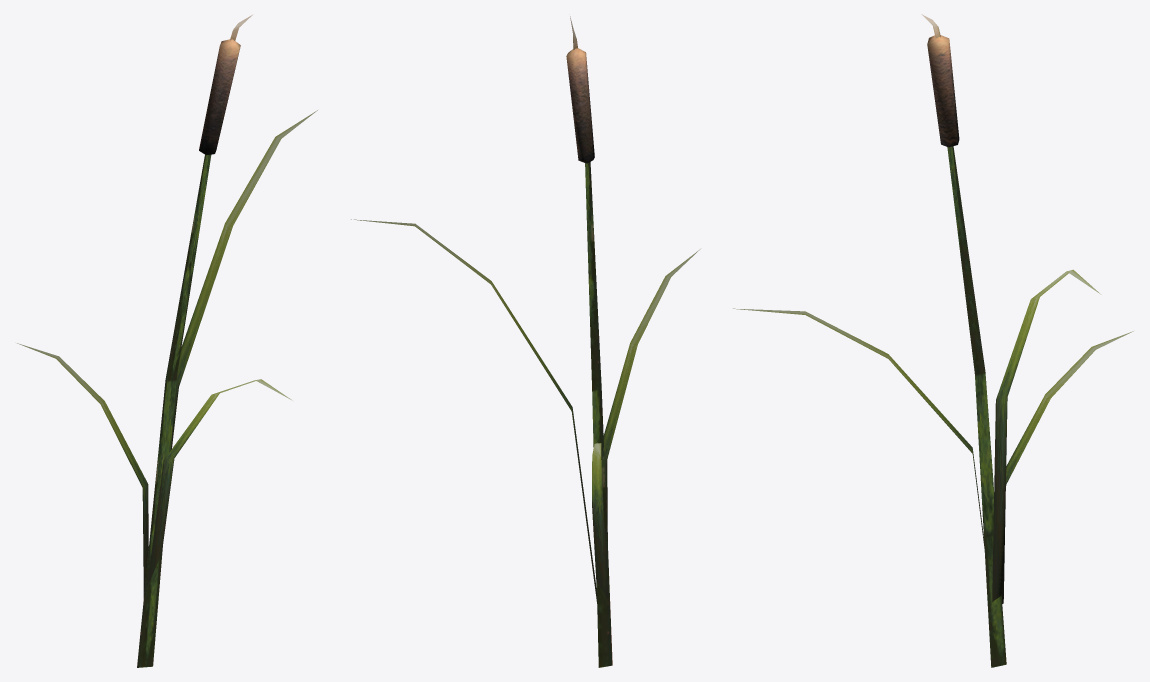
File: swmp_shor_cattail_lg_l0.fbx
3 views of the same model, side by side, from view 1: azimuth 30°, elevation 25°; view 2: azimuth 150°, elevation 25°; view 3: azimuth 270°, elevation 25° (orthographic). The views are drawn at different scales.
Visible parts, largest first — view 1: mesh_node; view 2: mesh_node; view 3: mesh_node.
Boxes of the visible parts, left/top/right/bottom form: mesh_node: left=17, top=14, right=317, bottom=667; mesh_node: left=351, top=16, right=700, bottom=667; mesh_node: left=733, top=14, right=1133, bottom=667.
Size of the model in its own units: 1.31 by 2.85 by 1.53.
